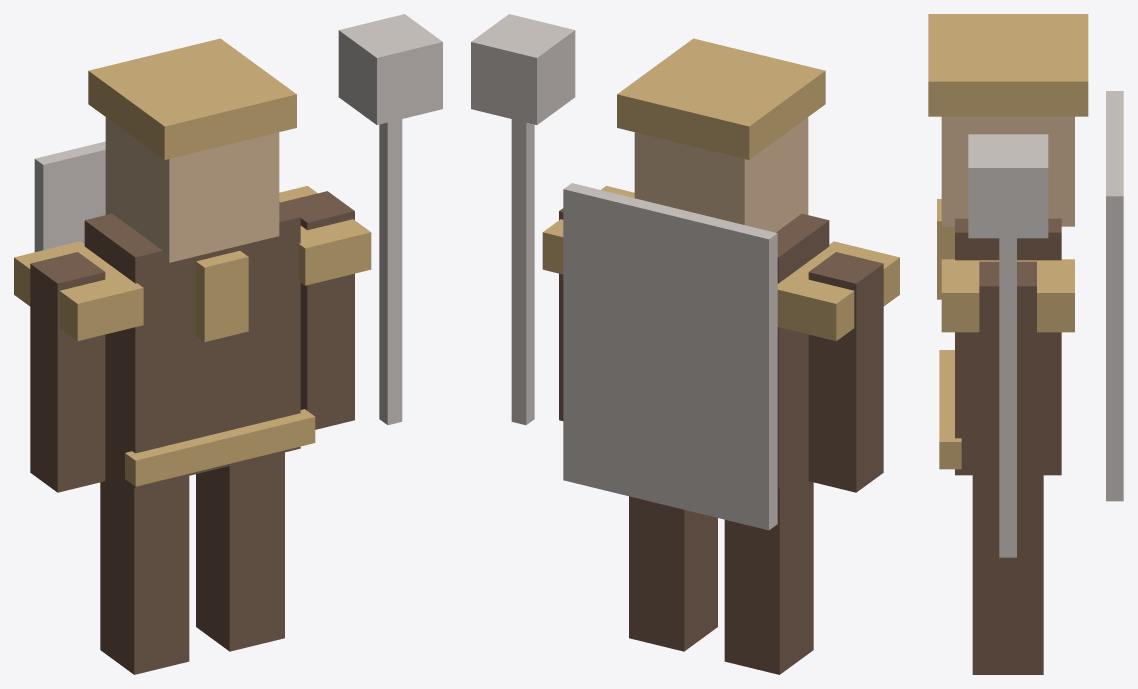
The model's file is 05_bryn_echohand_keeper_from_archive.glb.
3 renders of one model, left to right at view 1: azimuth 30°, elevation 25°; view 2: azimuth 150°, elevation 25°; view 3: azimuth 270°, elevation 25°, orthographic. The views are drawn at different scales.
Visible parts, largest first — view 1: Bryn Echohand, Keeper from Archive; view 2: Bryn Echohand, Keeper from Archive; view 3: Bryn Echohand, Keeper from Archive.
Part boxes in pixels (x1=…): Bryn Echohand, Keeper from Archive: x1=14, y1=14, x2=442, y2=674; Bryn Echohand, Keeper from Archive: x1=471, y1=14, x2=899, y2=674; Bryn Echohand, Keeper from Archive: x1=928, y1=14, x2=1123, y2=674.
Size of the model in its own units: 1.12 by 1.58 by 0.4747.
